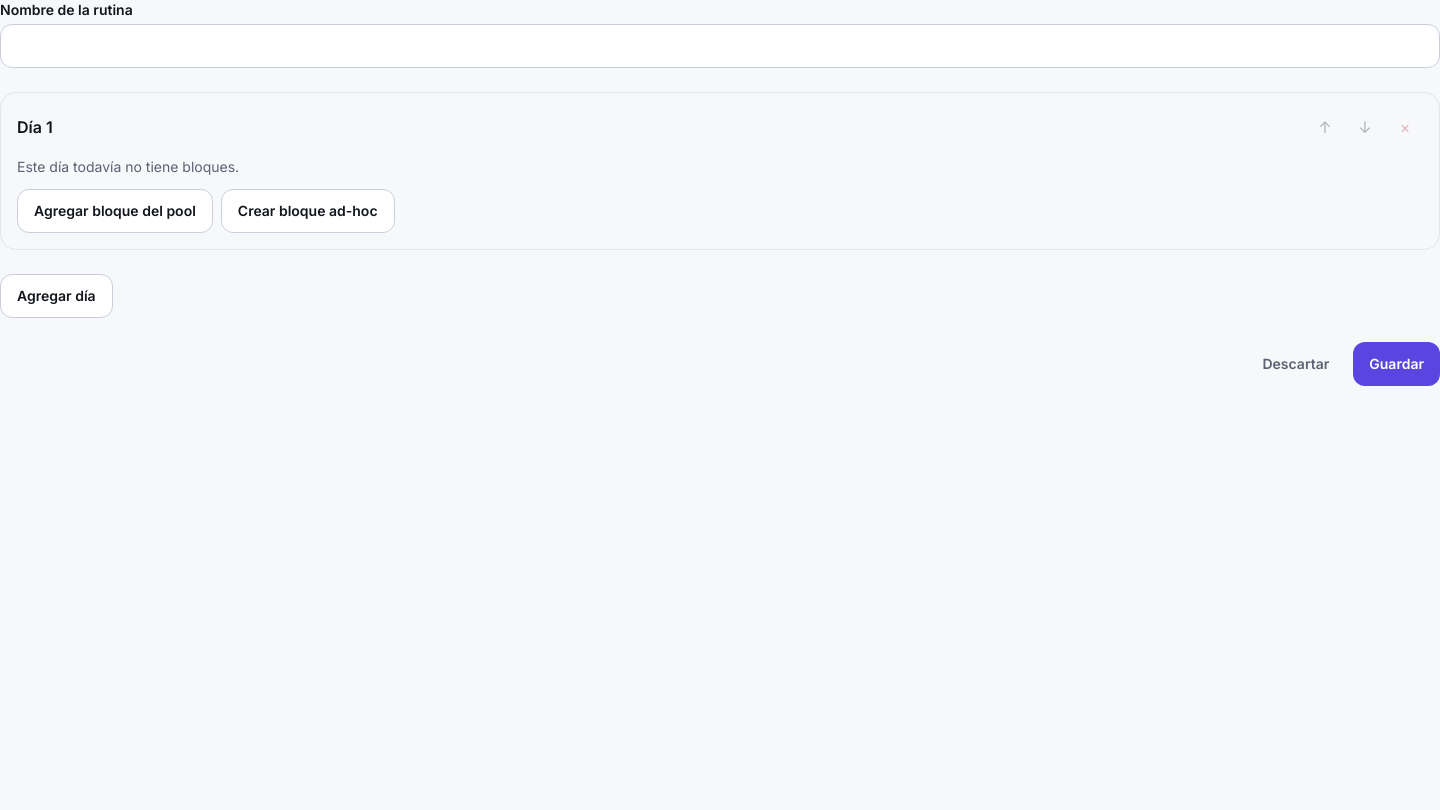
Test: RoutineEditor — rutina nueva › si el backend responde NAME_TAKEN, lo muestra junto al nombre
Type "Plan semanal" into the field labelled "Nombre de la rutina".
click(720, 46); type("Plan semanal")  # box left=0, top=24, right=1439, bottom=68
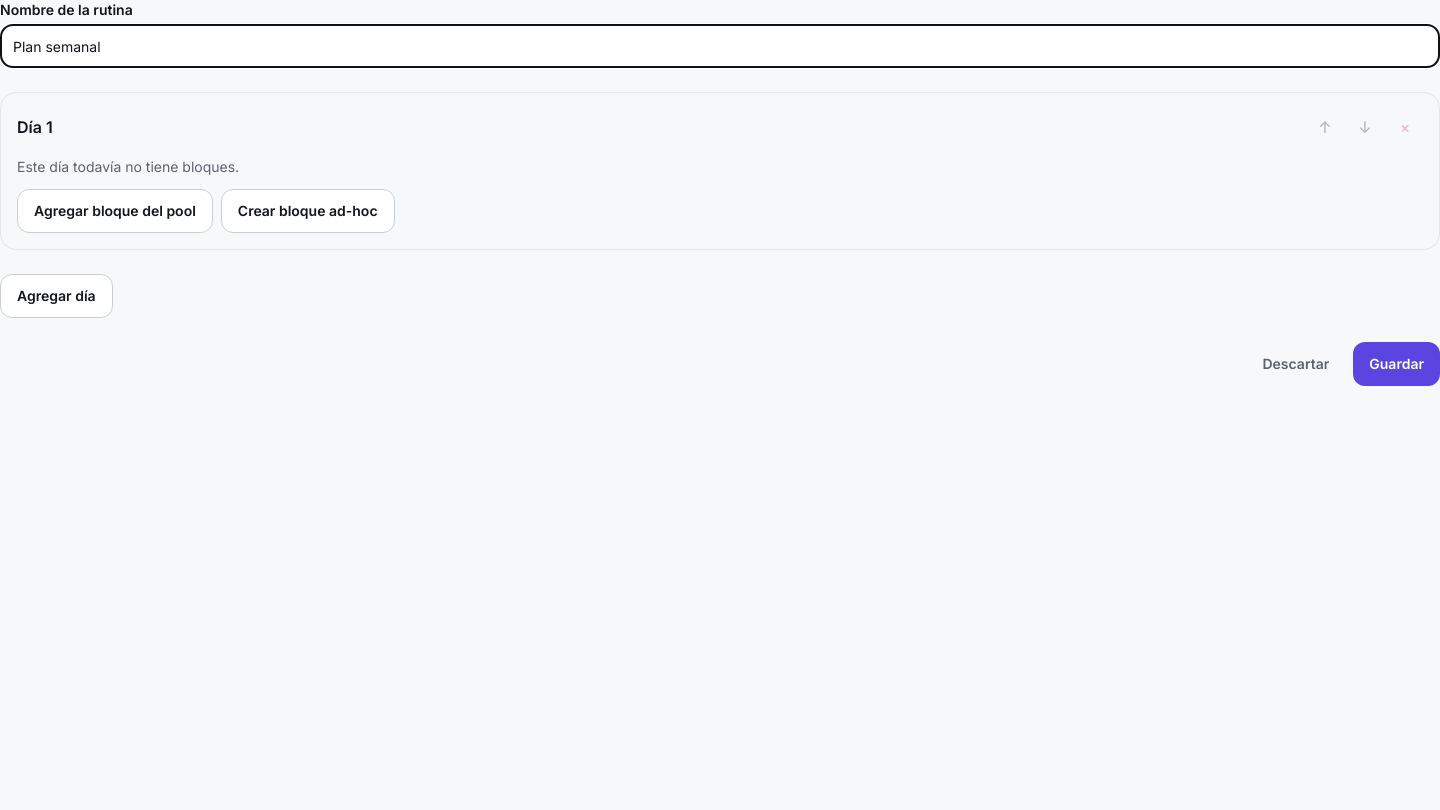
Click the button "Agregar bloque del pool".
click(115, 211)  # box left=17, top=189, right=213, bottom=233
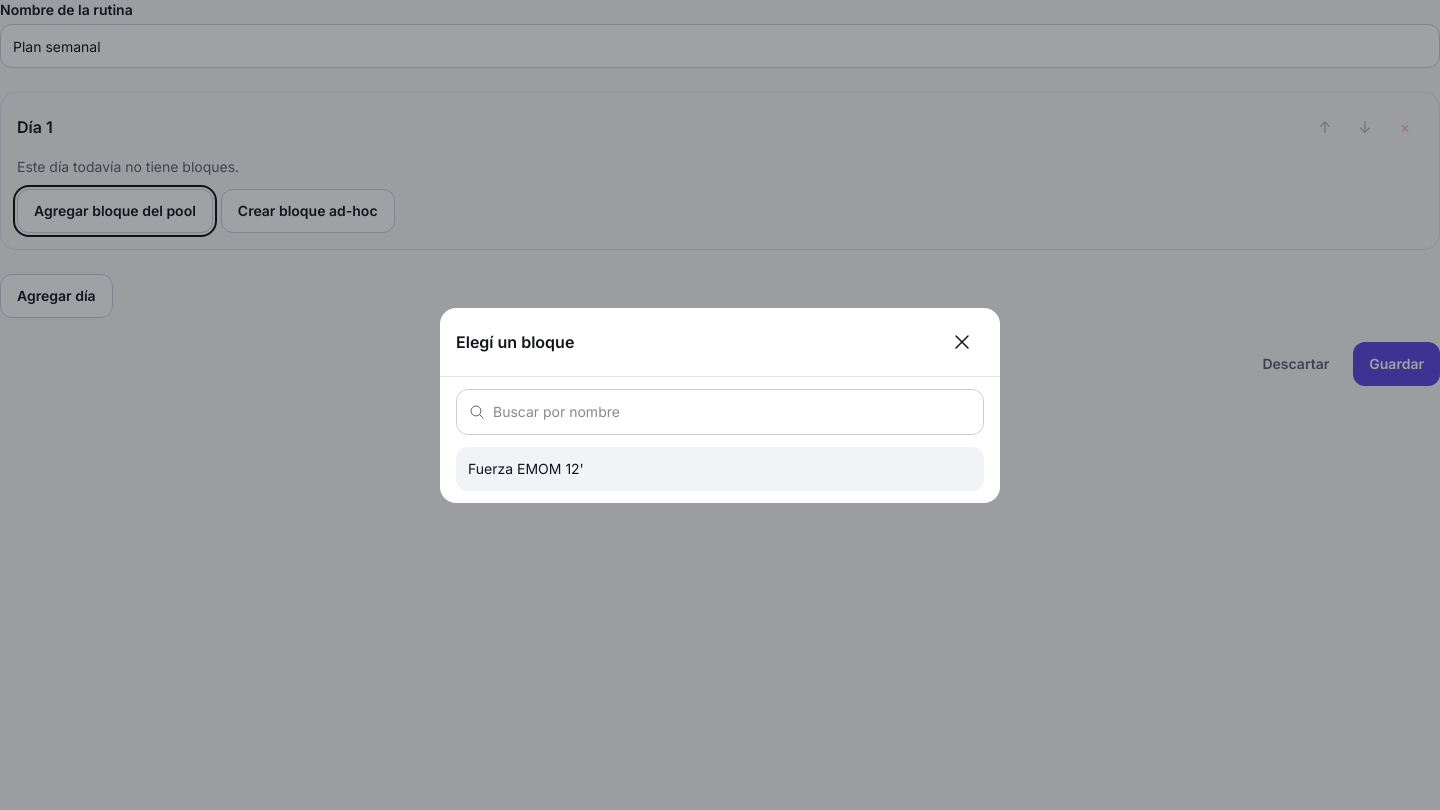
Click the button "Fuerza EMOM 12'".
click(526, 468)  # box left=456, top=446, right=984, bottom=490
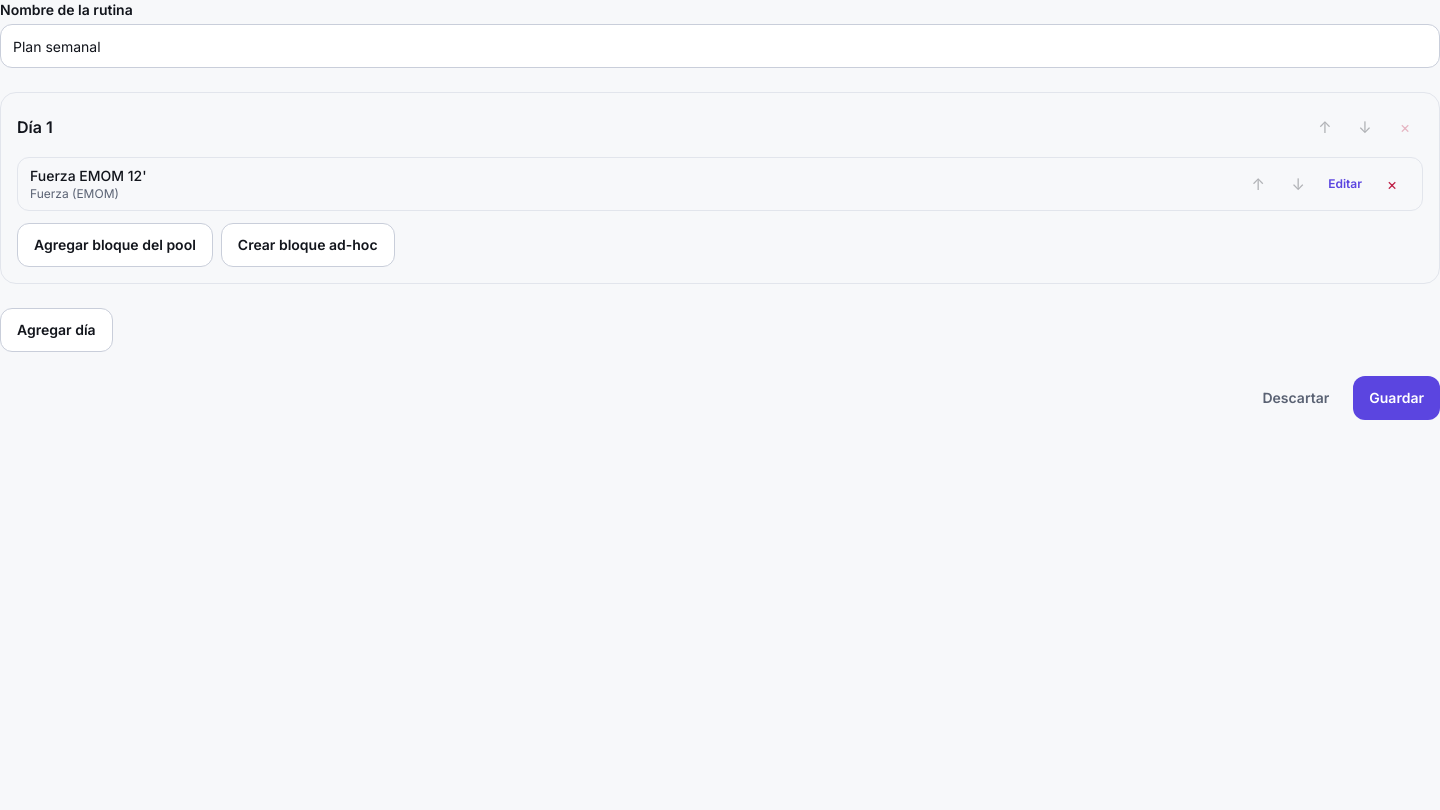
Click the button "Guardar".
click(1397, 398)  # box left=1353, top=376, right=1439, bottom=420
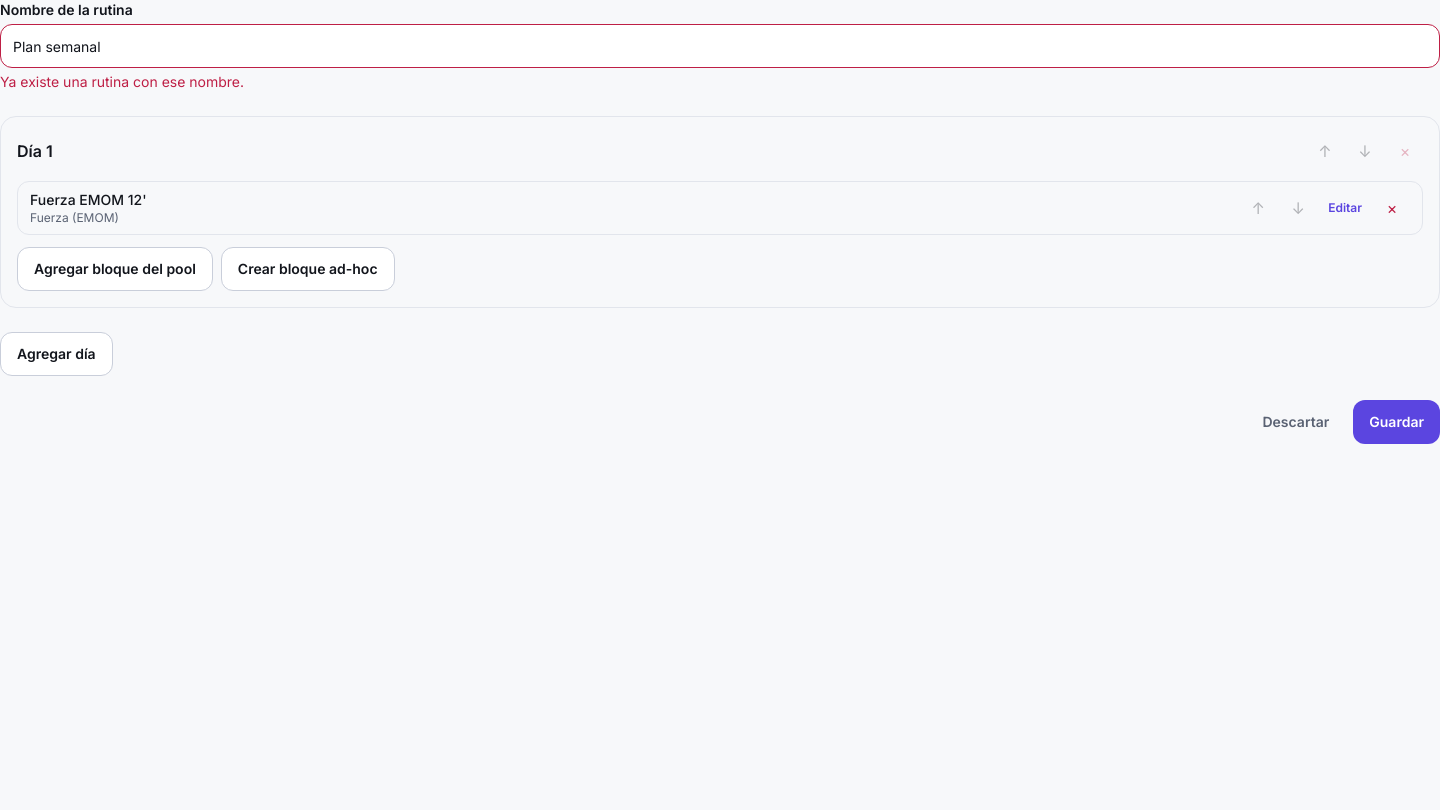
Check: the text "Ya existe una rutina con ese nombre." is shown, box left=0, top=73, right=244, bottom=90
